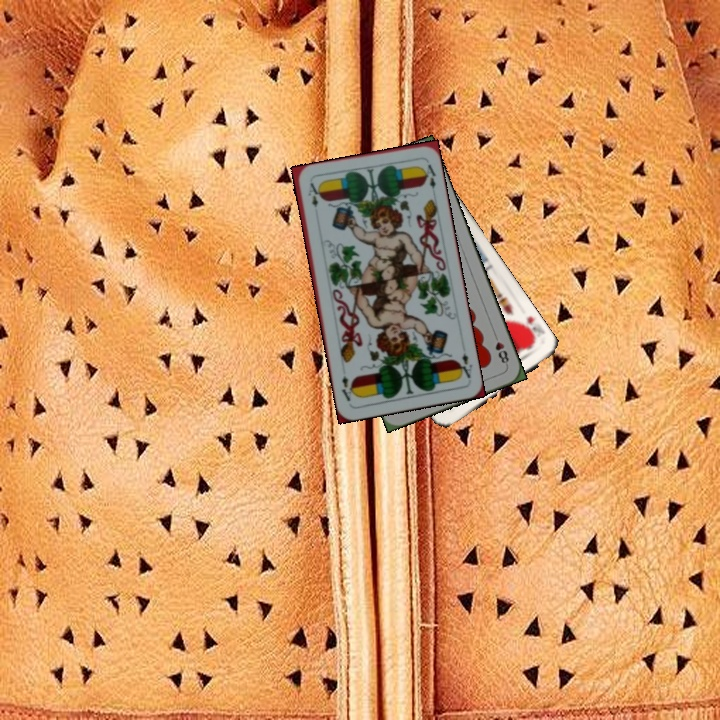EA: (454, 349, 475, 382), (304, 179, 321, 210)
H8: (490, 329, 511, 368)
HK: (518, 312, 541, 345)
